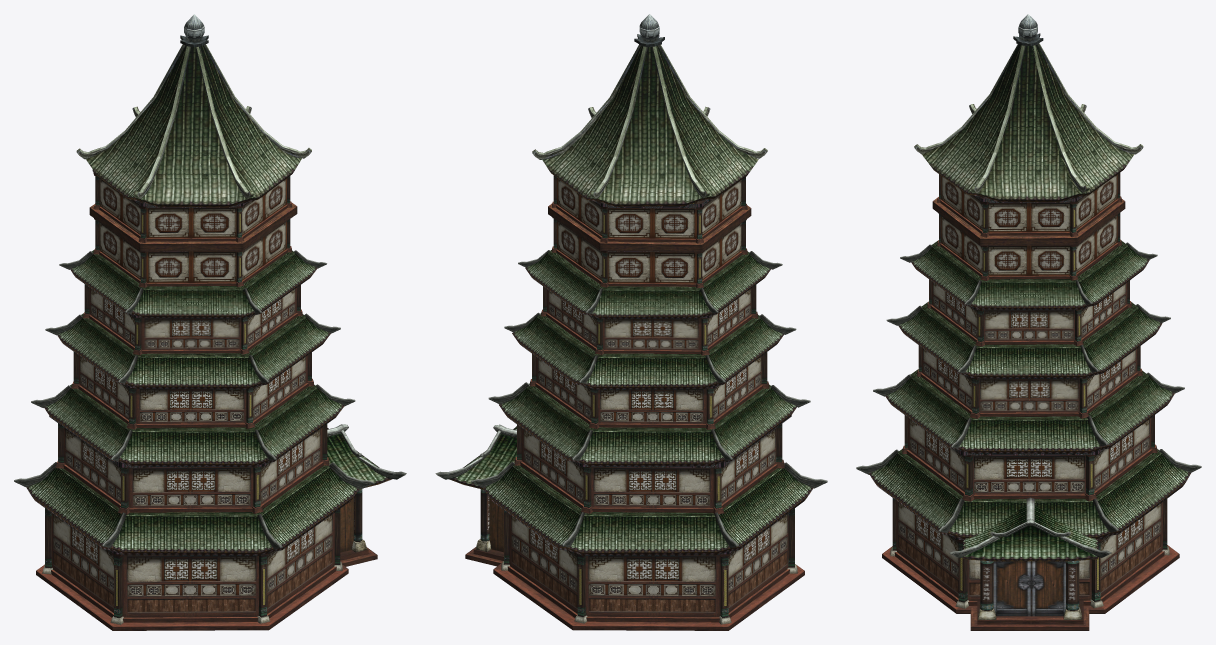
File: c1-013-6tower.fbx
3 renders of one model, left to right at view 1: azimuth 30°, elevation 25°; view 2: azimuth 150°, elevation 25°; view 3: azimuth 270°, elevation 25°, orthographic. The views are drawn at different scales.
Visible parts, largest first — view 1: b1-013-6tower-01; view 2: b1-013-6tower-01; view 3: b1-013-6tower-01.
Part boxes in pixels (left/top/right/bottom): b1-013-6tower-01: left=14, top=14, right=406, bottom=630; b1-013-6tower-01: left=435, top=14, right=827, bottom=630; b1-013-6tower-01: left=856, top=14, right=1201, bottom=630.
Bounding box in the file's own units: 15.6 × 27.14 × 15.61.
